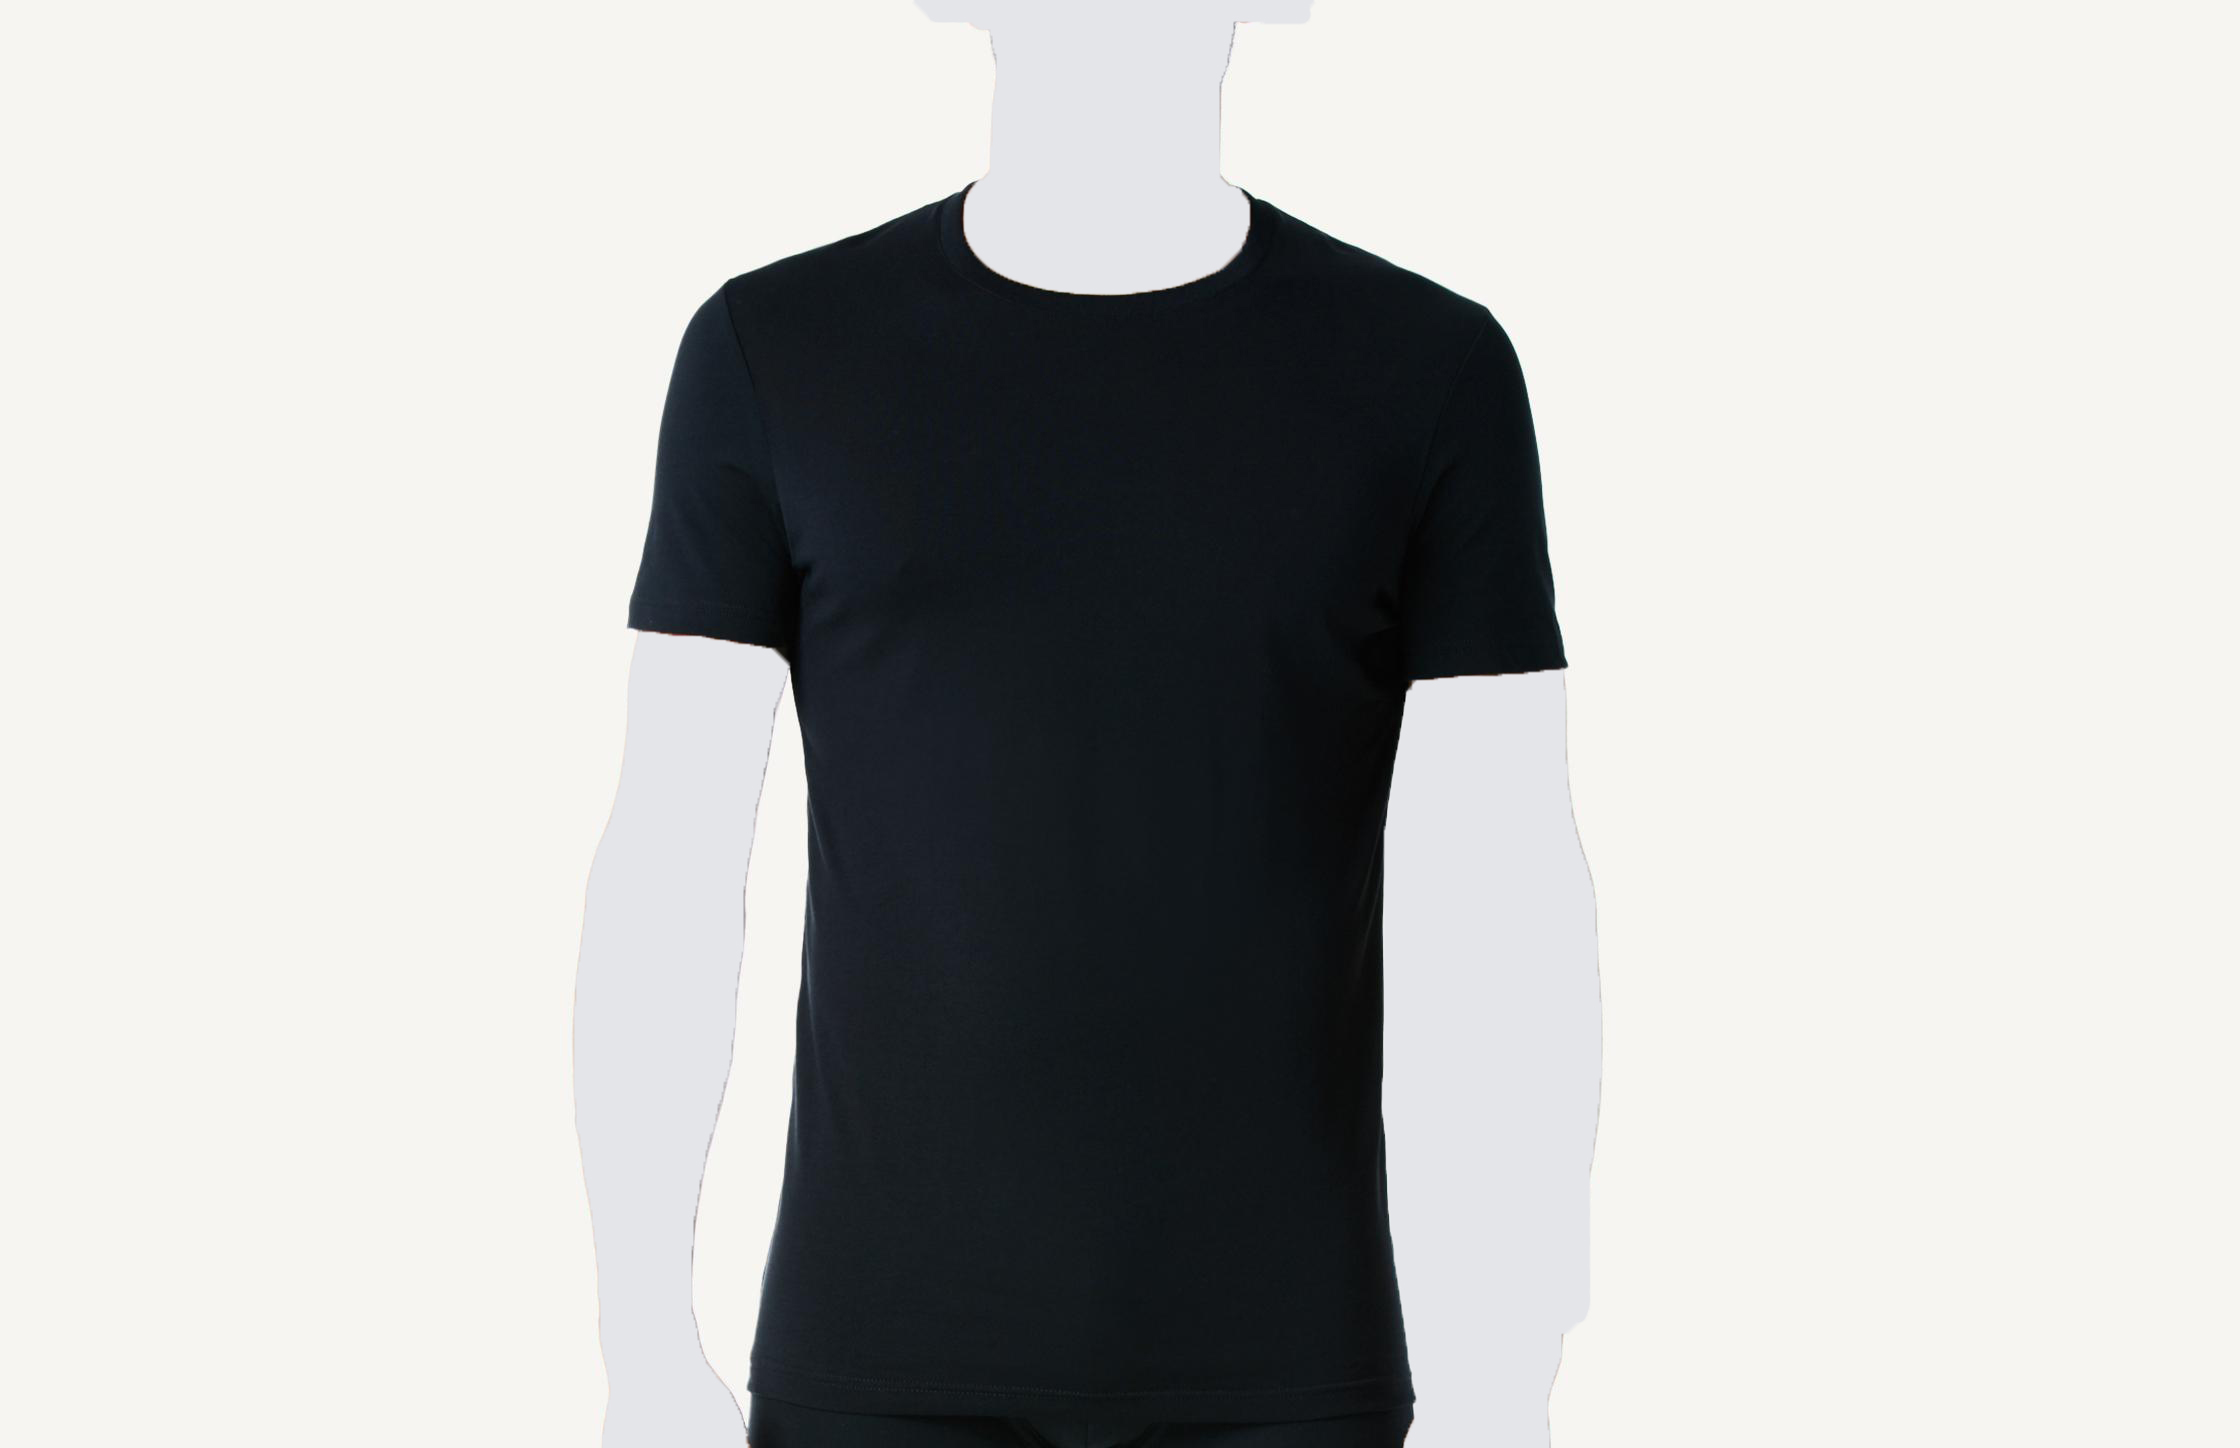teeshirt: (620, 181, 1577, 1441)
